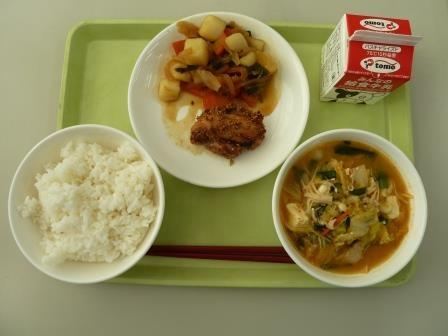Milk: (313, 11, 425, 102)
Rice: (12, 131, 165, 274)
cutlet: (186, 103, 269, 164)
vegetable based cooked food: (141, 16, 288, 100)
vegetable soup: (272, 140, 429, 278)
